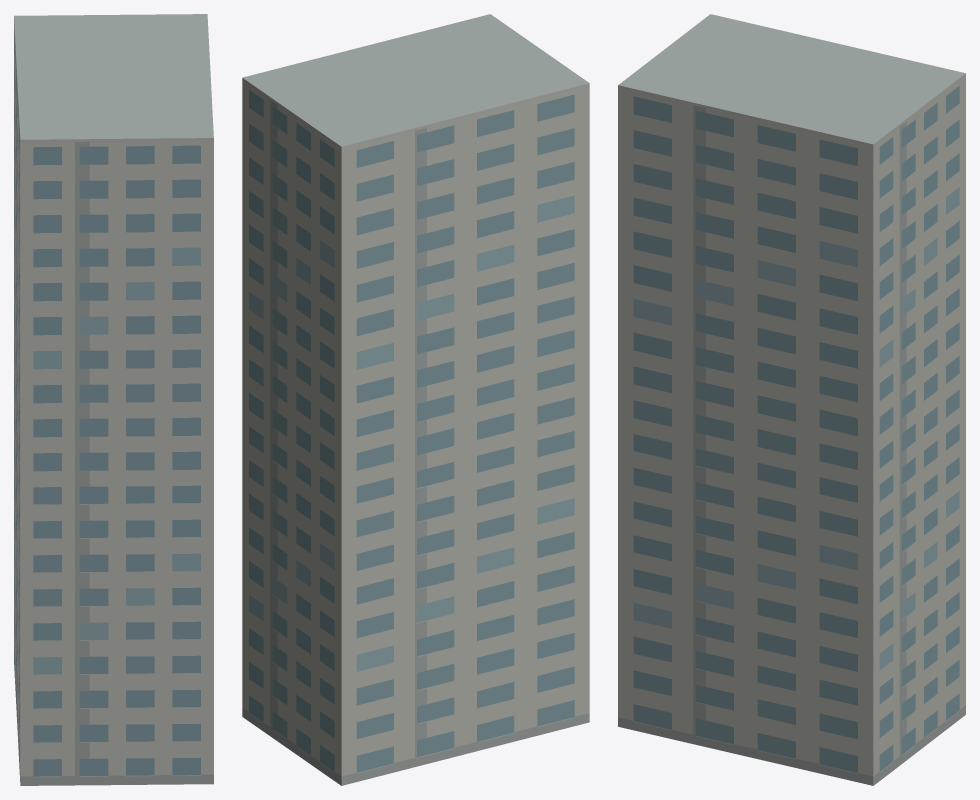
File: residential-f7128a60-2355-4cf7-be3c-fdefd8d2bde2.glb
The picture shows the model from 3 angles, left to right: view 1: azimuth 30°, elevation 25°; view 2: azimuth 150°, elevation 25°; view 3: azimuth 270°, elevation 25°; orthographic projection.
Visible parts, largest first — view 1: residential-f7128a60-2355-4cf7-be3c-fdefd8d2bde2.tmp; view 2: residential-f7128a60-2355-4cf7-be3c-fdefd8d2bde2.tmp; view 3: residential-f7128a60-2355-4cf7-be3c-fdefd8d2bde2.tmp.
Part boxes in pixels (x1=…): residential-f7128a60-2355-4cf7-be3c-fdefd8d2bde2.tmp: x1=14, y1=14, x2=213, y2=785; residential-f7128a60-2355-4cf7-be3c-fdefd8d2bde2.tmp: x1=242, y1=14, x2=589, y2=785; residential-f7128a60-2355-4cf7-be3c-fdefd8d2bde2.tmp: x1=618, y1=14, x2=965, y2=785.
Bounding box in the file's own units: 25.73 × 59 × 29.
